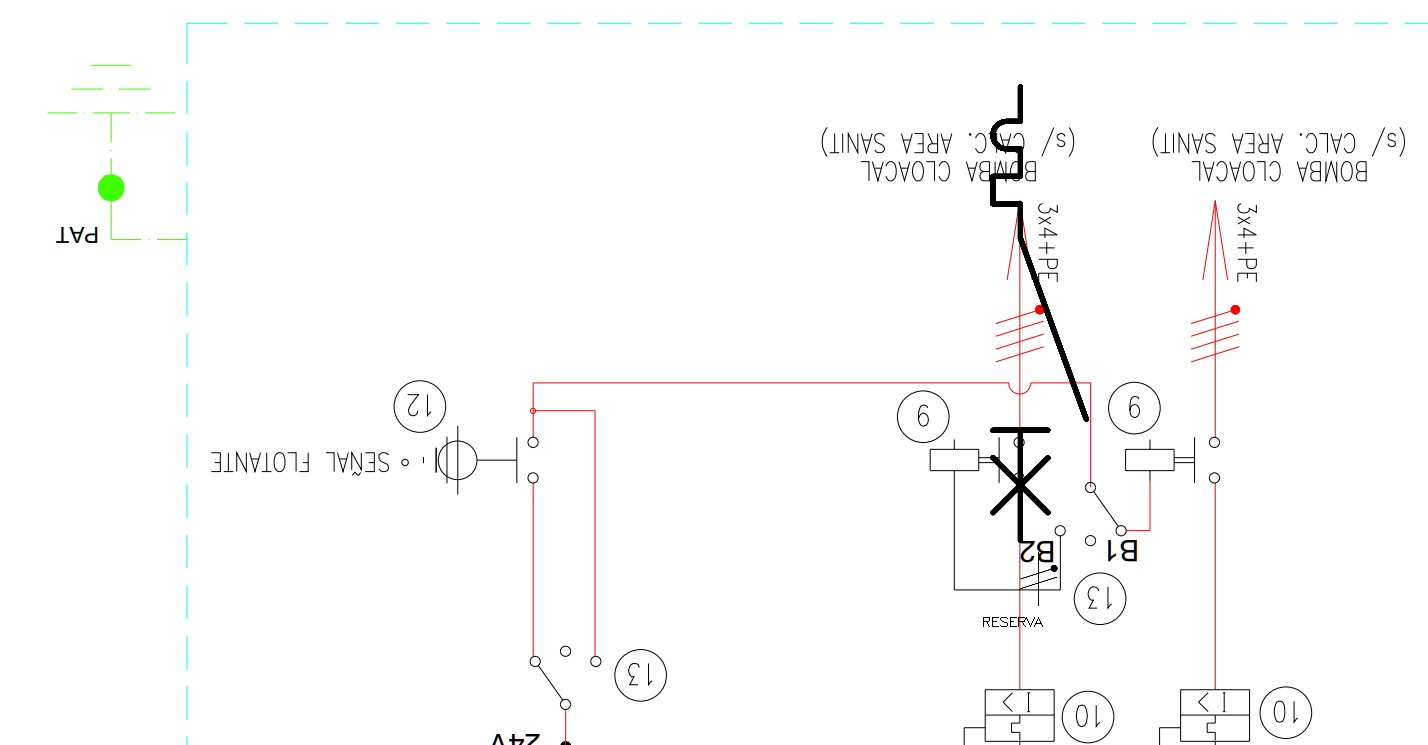interruptor_termomagnetico: (981, 75, 1098, 552)
